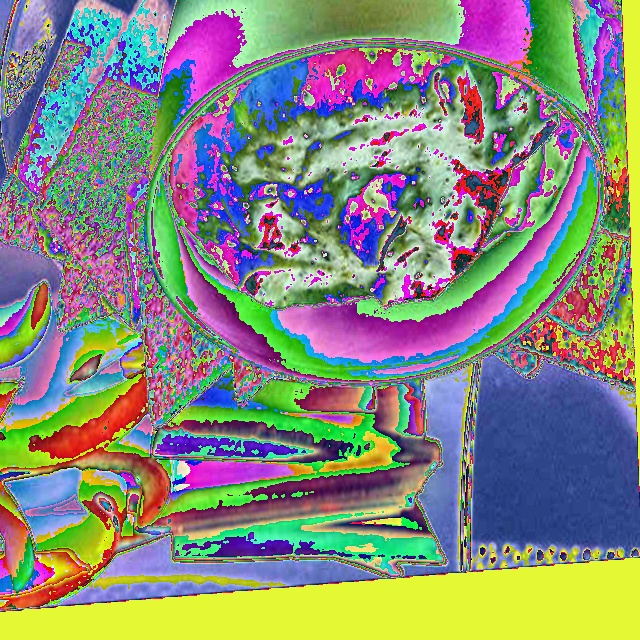background: (0, 0, 448, 611), (142, 0, 636, 397), (165, 47, 579, 312)
